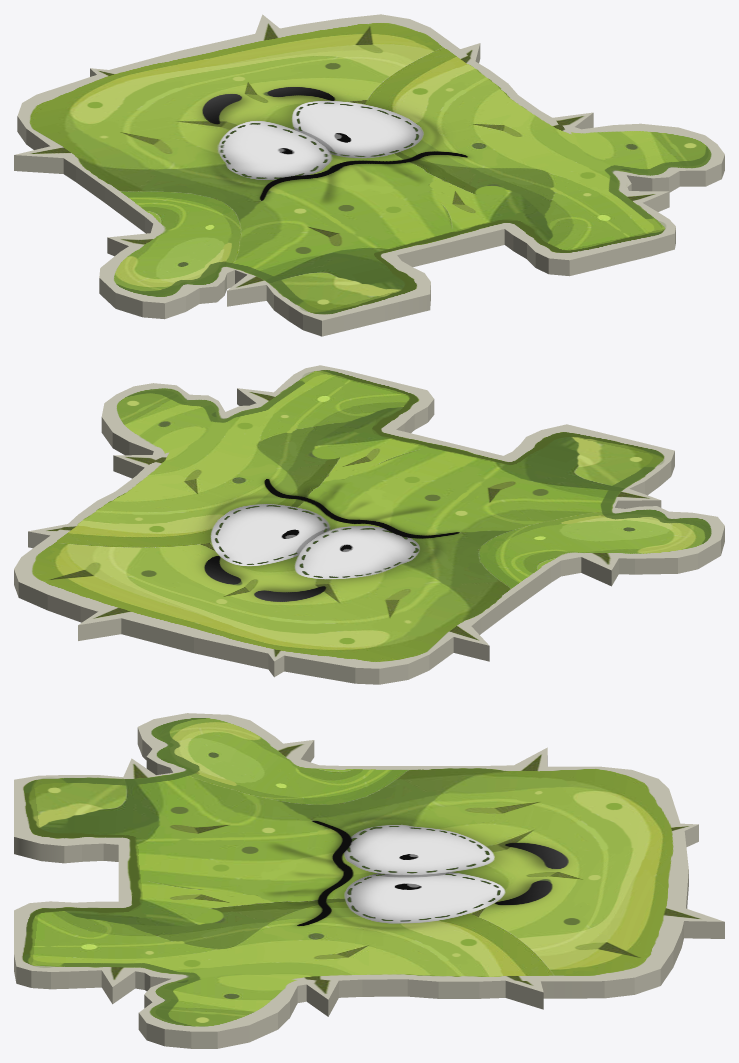
Rendered from CactusBoomon.FBX.
3 renders of one model, top to bottom at view 1: azimuth 30°, elevation 25°; view 2: azimuth 150°, elevation 25°; view 3: azimuth 270°, elevation 25°, orthographic. The views are drawn at different scales.
Visible parts, largest first — view 1: CactusBoomon; view 2: CactusBoomon; view 3: CactusBoomon.
Boxes of the visible parts, x1=… form: CactusBoomon: x1=14, y1=14, x2=724, y2=336; CactusBoomon: x1=14, y1=365, x2=724, y2=684; CactusBoomon: x1=14, y1=713, x2=724, y2=1048.
Size of the model in its own units: 1.6 by 0.0404 by 1.51.
